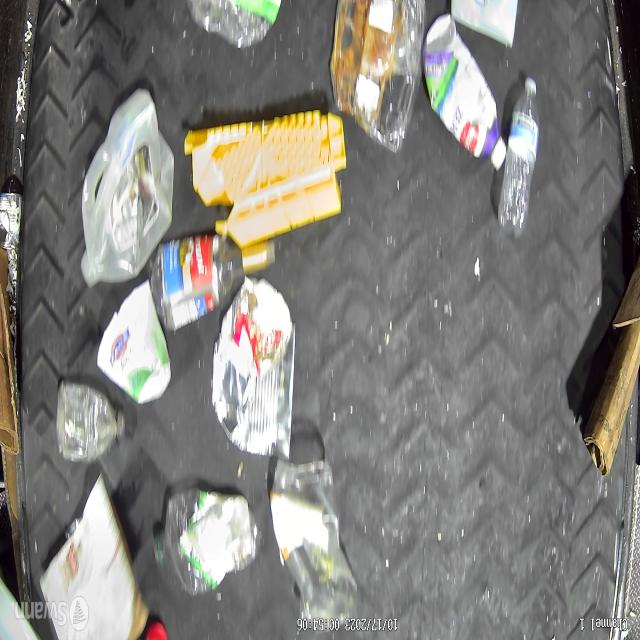can: (212, 282, 296, 463), (0, 193, 23, 250)
milk_jug: (0, 563, 41, 640)
non_white_jug: (80, 87, 173, 290)
plastic_bottle: (496, 79, 541, 237), (55, 376, 125, 463)
